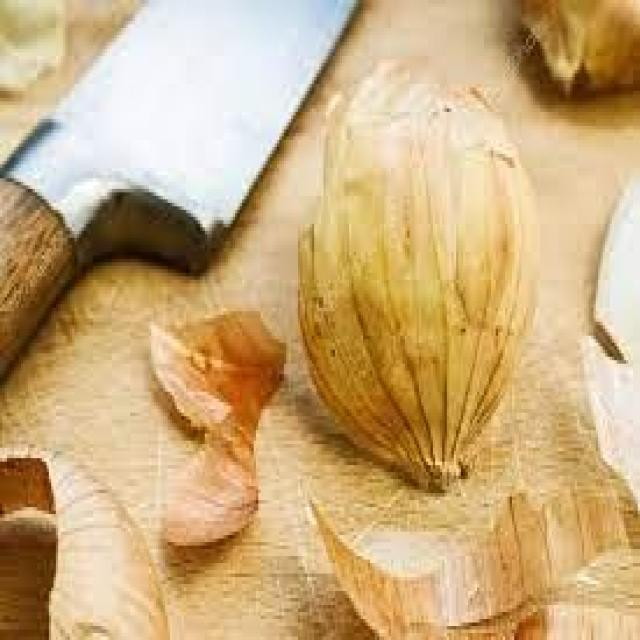Onion: (291, 70, 524, 476), (300, 486, 626, 630), (0, 430, 177, 637), (137, 306, 282, 516), (521, 0, 640, 112)
